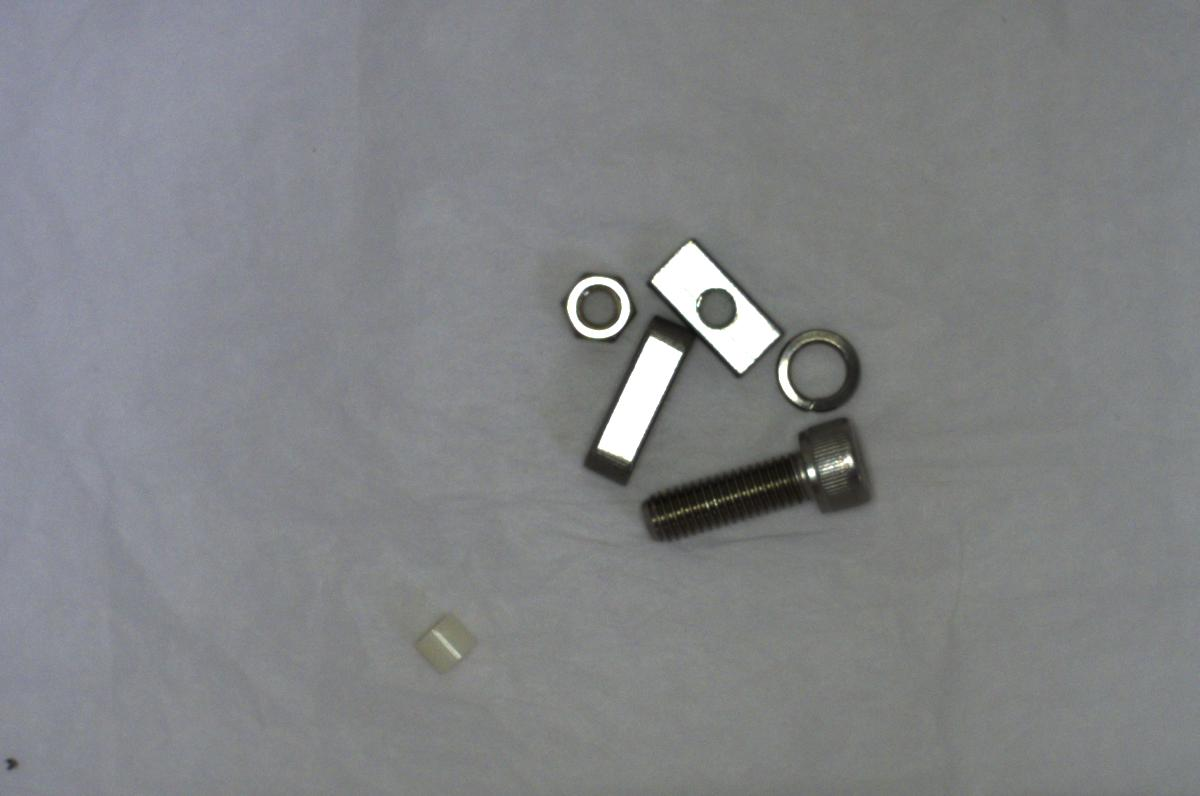Hexagon nut: (548, 266, 634, 349)
Hexagon screw: (635, 423, 870, 553)
Keybar: (580, 314, 699, 479)
Plastic cushion pillar: (406, 609, 474, 682)
Rectangular nut: (647, 235, 781, 375)
Spring washer: (771, 322, 861, 415)
